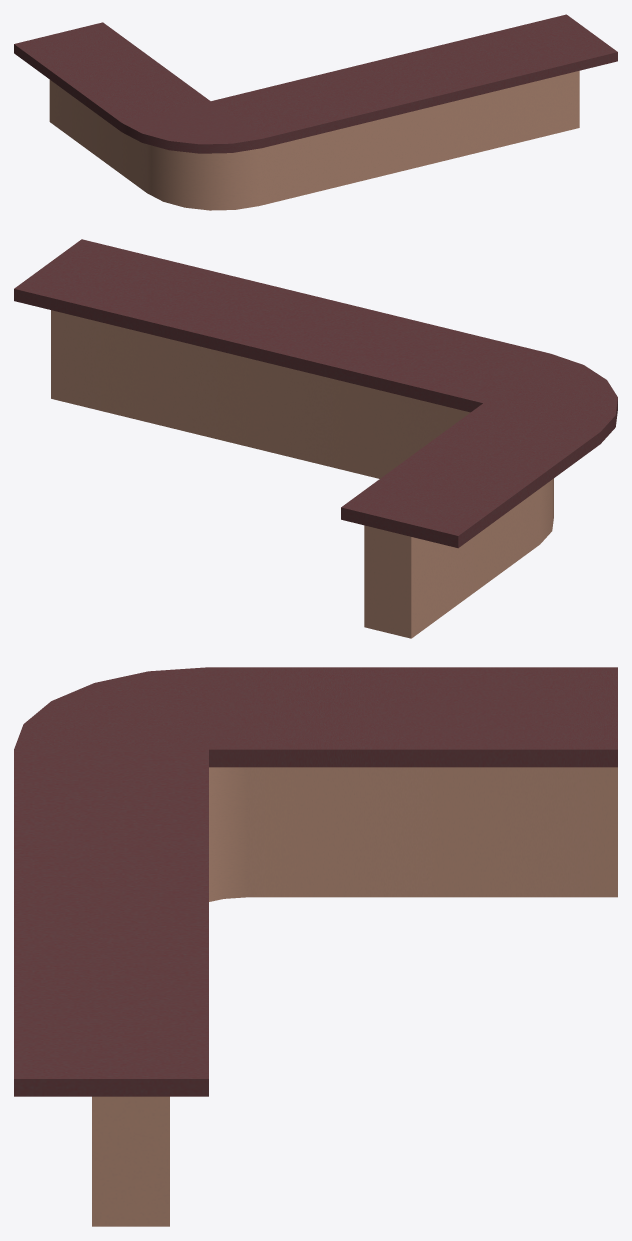
The model's file is PR_CounterCurveLeft.fbx.
3 renders of one model, top to bottom at view 1: azimuth 30°, elevation 25°; view 2: azimuth 150°, elevation 25°; view 3: azimuth 270°, elevation 25°, orthographic. The views are drawn at different scales.
Parts seen in each view (by area): view 1: Counter; view 2: Counter; view 3: Counter.
Part boxes in pixels (box(x1,y1,x2,y2)): Counter: box(14, 14, 617, 210); Counter: box(14, 239, 617, 638); Counter: box(14, 667, 617, 1226).
Size of the model in its own units: 500 by 93 by 310.
